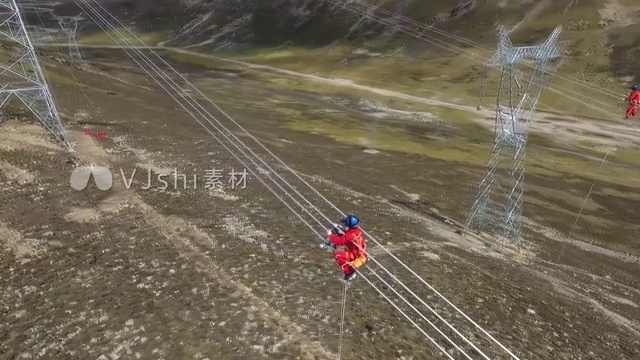tower_body: (465, 18, 567, 245)
tower_foot: (468, 177, 524, 240)
tower_head: (485, 21, 561, 144)
